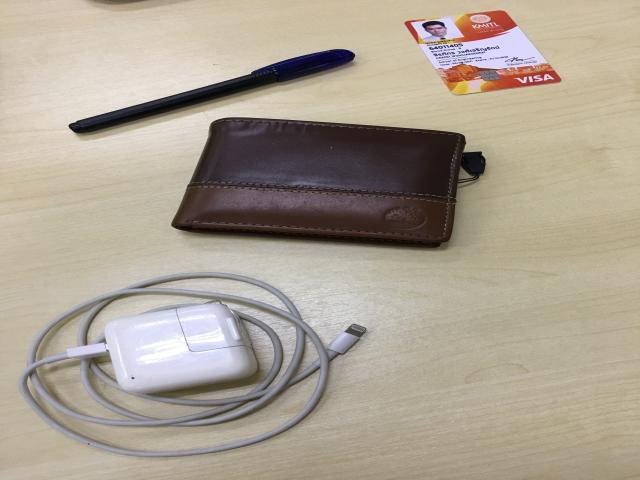Pen: (68, 49, 357, 137)
Wallet: (171, 118, 481, 248)
wire: (22, 274, 366, 458)
